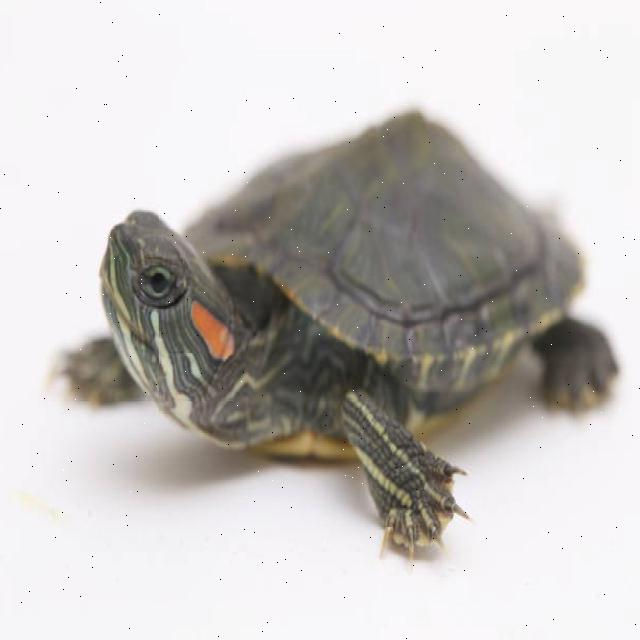tortoise: (49, 104, 623, 572)
